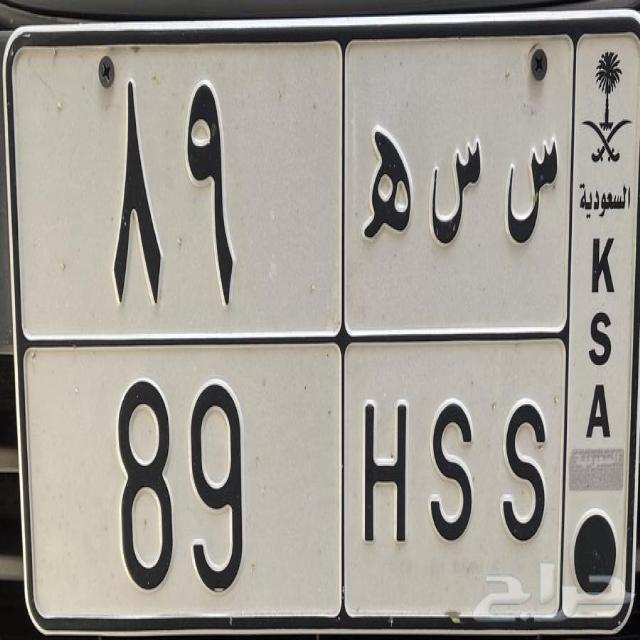license_plate: (7, 16, 640, 638)
